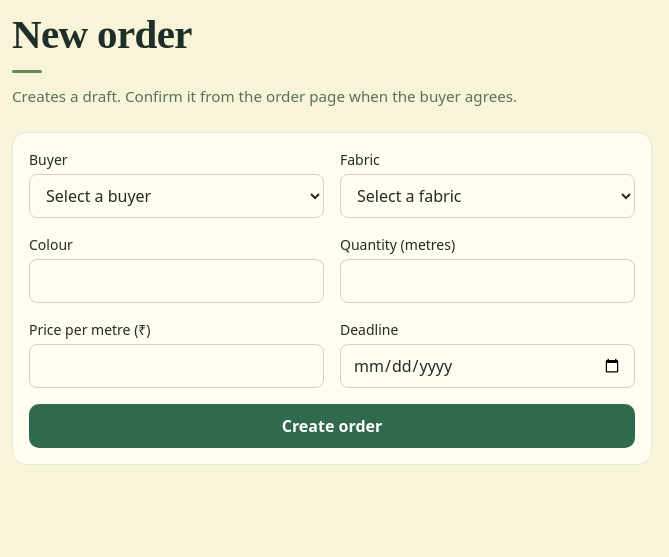
Test: NewOrder › names every missing field and sends nothing
Click the button "Create order": x=332, y=426 [29,404,635,448]
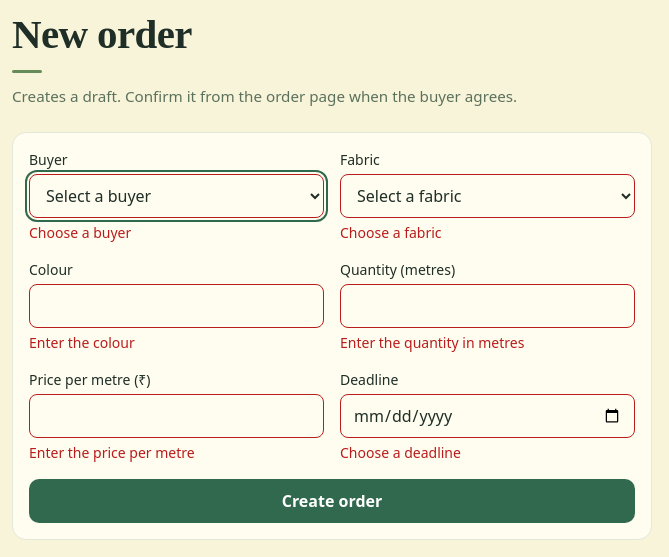
Expected: the text "Choose a buyer" is shown, [29,223,131,242]
Expected: the text "Choose a fabric" is shown, [340,223,442,242]
Expected: the text "Enter the colour" is shown, [29,333,135,352]
